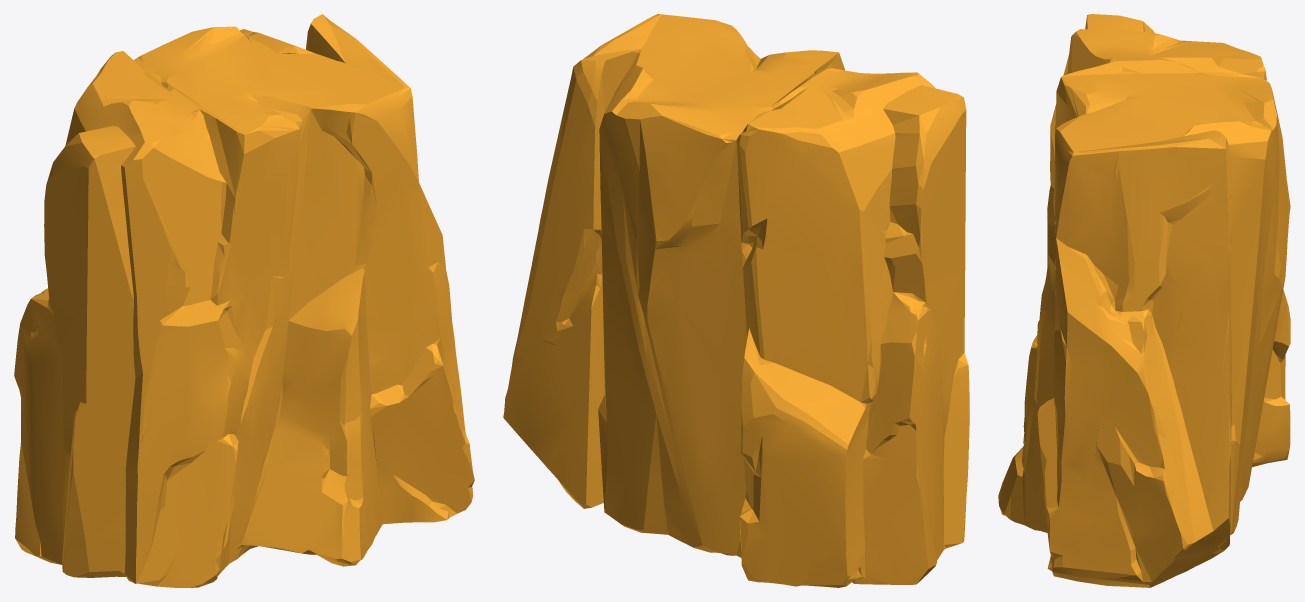
The model's file is SM_Iceberg_Big_B.fbx.
The picture shows the model from 3 angles, left to right: view 1: azimuth 30°, elevation 25°; view 2: azimuth 150°, elevation 25°; view 3: azimuth 270°, elevation 25°; orthographic projection. The views are drawn at different scales.
Parts seen in each view (by area): view 1: iceberg-big-b; view 2: iceberg-big-b; view 3: iceberg-big-b.
Boxes of the visible parts, bbox=[...] form: iceberg-big-b: bbox=[14, 14, 474, 587]; iceberg-big-b: bbox=[503, 14, 969, 587]; iceberg-big-b: bbox=[998, 14, 1290, 587].
Bounding box in the file's own units: 23.54 × 24.04 × 15.01.
